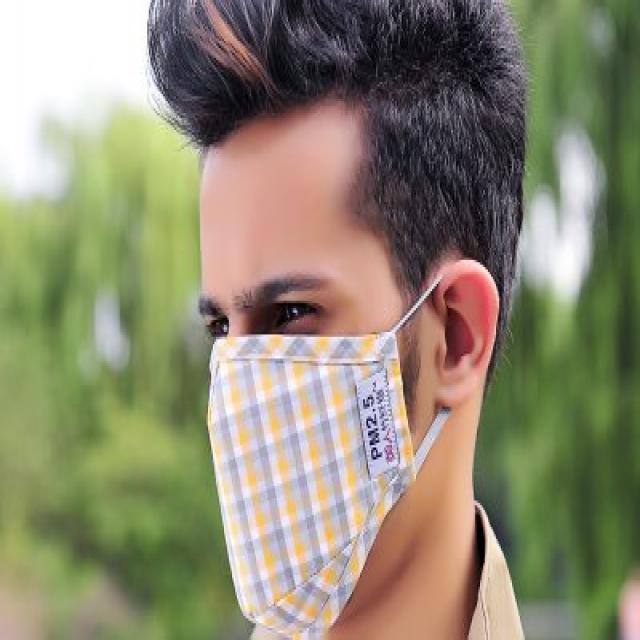mask: (196, 149, 425, 582)
